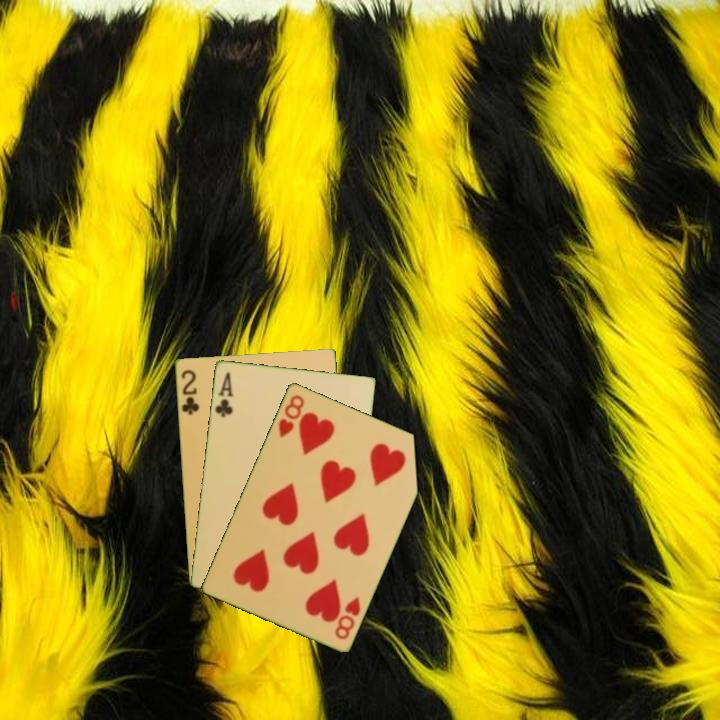2c: (178, 366, 202, 418)
8h: (274, 391, 307, 440), (331, 593, 363, 642)
Ac: (211, 368, 236, 419)
